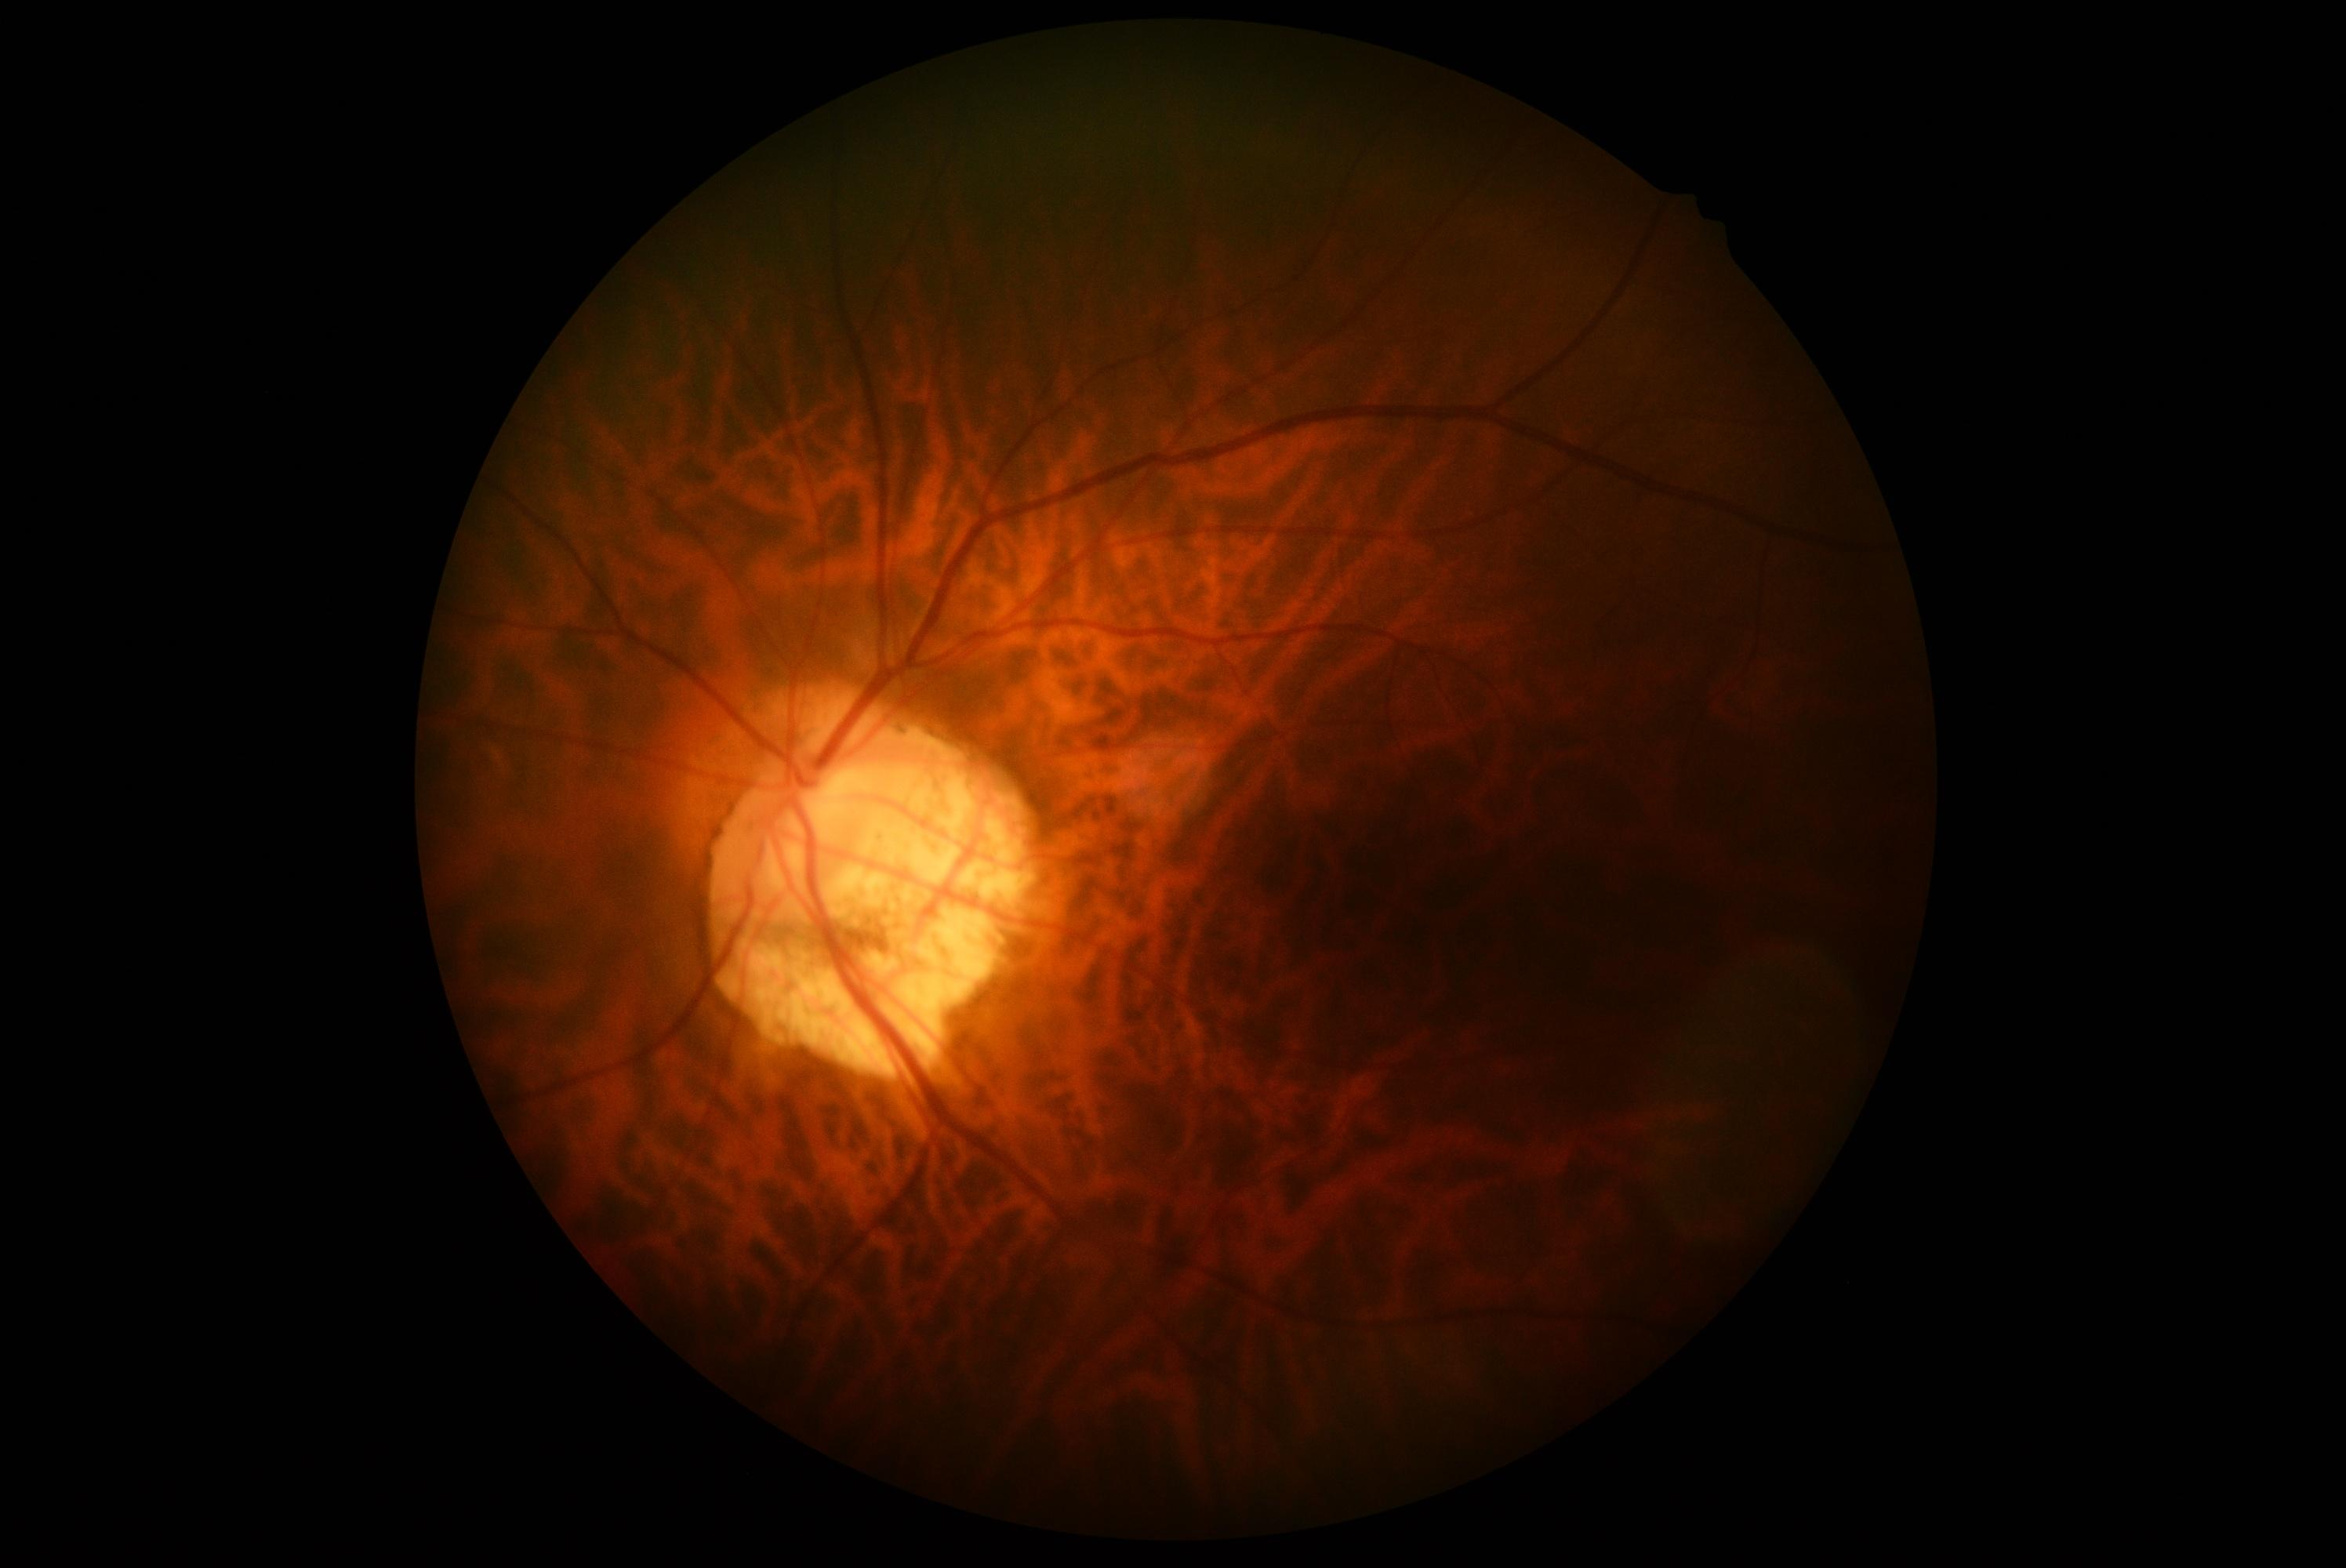Fovea: (1331, 840, 1482, 984)
